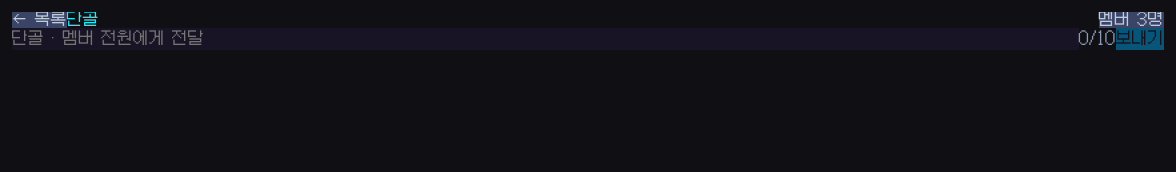
Scenario: GroupThread › 전송: 전송 중 → 201이면 한 번만 보이고, 실패하면 다시 보내기
The image size is (1176, 172).
Type "안녕" into the field named "단골 그룹에 메시지" at (545, 39), box [12, 28, 1079, 50]
Then press Enter
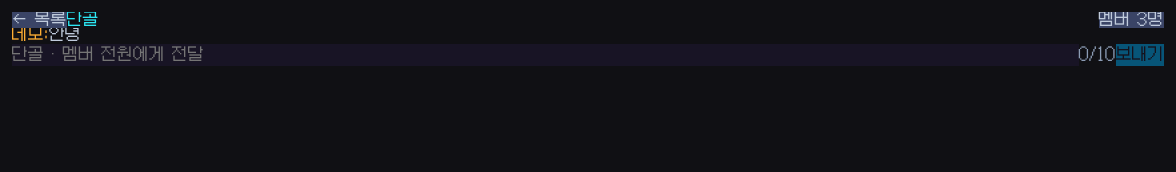
Result: the number of list items with test id "group-message" is 1 at [12, 28, 81, 44]
Type "실패" into the field named "단골 그룹에 메시지" at (545, 55), box [12, 44, 1079, 66]
Then press Enter
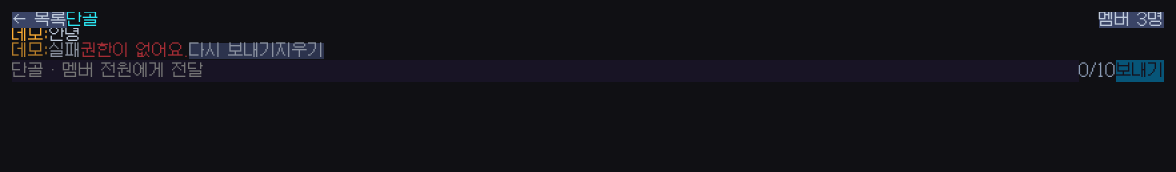
Result: the message reads "권한이 없어요." at [81, 41, 189, 60]
Result: the button "다시 보내기" is shown at [189, 43, 276, 59]
